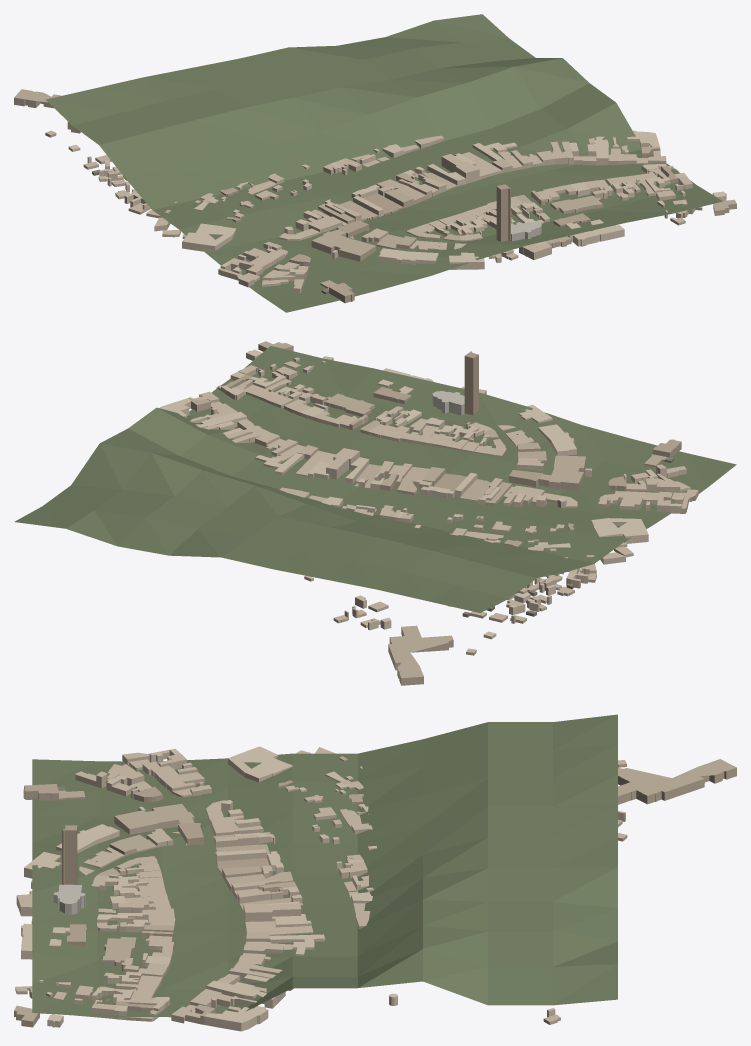
Rendered from trebic_zamosti.dae.
3 views of the same model, one above another, from view 1: azimuth 30°, elevation 25°; view 2: azimuth 150°, elevation 25°; view 3: azimuth 270°, elevation 25° (orthographic). The views are drawn at different scales.
Parts seen in each view (by area): view 1: terrain, buildings_batch_1, buildings_batch_0, buildings_batch_6, buildings_batch_7, buildings_batch_5, buildings_batch_2, kostel Svatého Martina; view 2: terrain, buildings_batch_1, buildings_batch_0, buildings_batch_6, buildings_batch_7, buildings_batch_5, kostel Svatého Martina; view 3: terrain, buildings_batch_1, buildings_batch_0, buildings_batch_6, buildings_batch_5, buildings_batch_7, kostel Svatého Martina, Autobusové nádraží Třebíč, U zlatého lva, buildings_batch_2.
Boxes of the visible parts, x1,y1,x2,y2 form: terrain: [46, 14, 722, 312]; buildings_batch_1: [45, 130, 695, 293]; buildings_batch_0: [87, 130, 687, 278]; buildings_batch_6: [14, 89, 736, 289]; buildings_batch_7: [496, 184, 510, 241]; buildings_batch_5: [226, 166, 702, 266]; buildings_batch_2: [202, 135, 542, 215]; kostel Svatého Martina: [511, 222, 541, 241]; terrain: [14, 346, 736, 612]; buildings_batch_1: [191, 356, 698, 655]; buildings_batch_0: [159, 357, 684, 630]; buildings_batch_6: [188, 341, 666, 685]; buildings_batch_7: [464, 351, 478, 415]; buildings_batch_5: [226, 374, 626, 530]; kostel Svatého Martina: [432, 391, 464, 415]; terrain: [32, 714, 617, 1017]; buildings_batch_1: [15, 747, 627, 1024]; buildings_batch_0: [21, 746, 625, 1031]; buildings_batch_6: [14, 756, 736, 1027]; buildings_batch_5: [67, 780, 293, 1012]; buildings_batch_7: [62, 825, 77, 884]; kostel Svatého Martina: [53, 884, 85, 914]; Autobusové nádraží Třebíč: [23, 784, 58, 800]; U zlatého lva: [225, 871, 293, 891]; buildings_batch_2: [120, 780, 370, 932].
Size of the model in its own units: 626 by 75 by 687.
